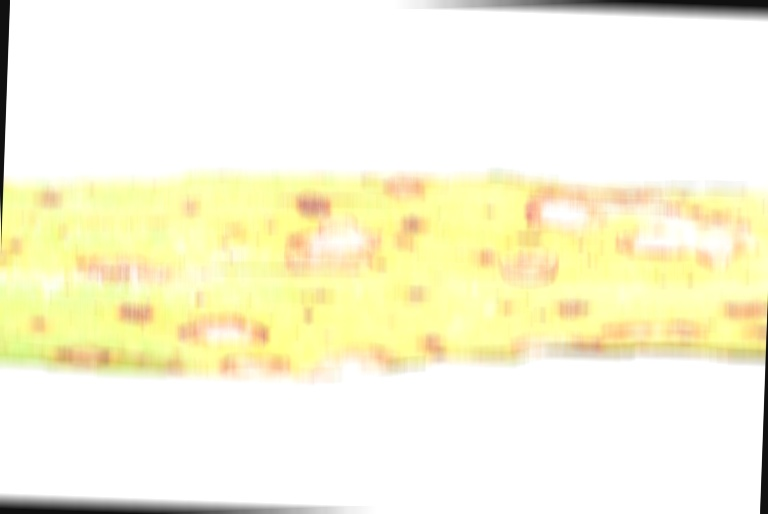Bacterial_Leaf_Blight: (500, 314, 726, 359), (276, 200, 404, 272), (604, 205, 755, 264), (48, 247, 229, 288), (473, 232, 585, 290), (507, 175, 612, 231), (305, 334, 414, 379), (50, 343, 189, 375), (170, 309, 277, 342), (218, 348, 296, 379), (716, 292, 766, 339), (99, 294, 167, 327), (286, 186, 343, 217), (546, 291, 600, 320), (415, 329, 455, 364), (371, 180, 435, 197), (31, 187, 73, 209), (395, 278, 438, 299), (21, 313, 60, 334)
